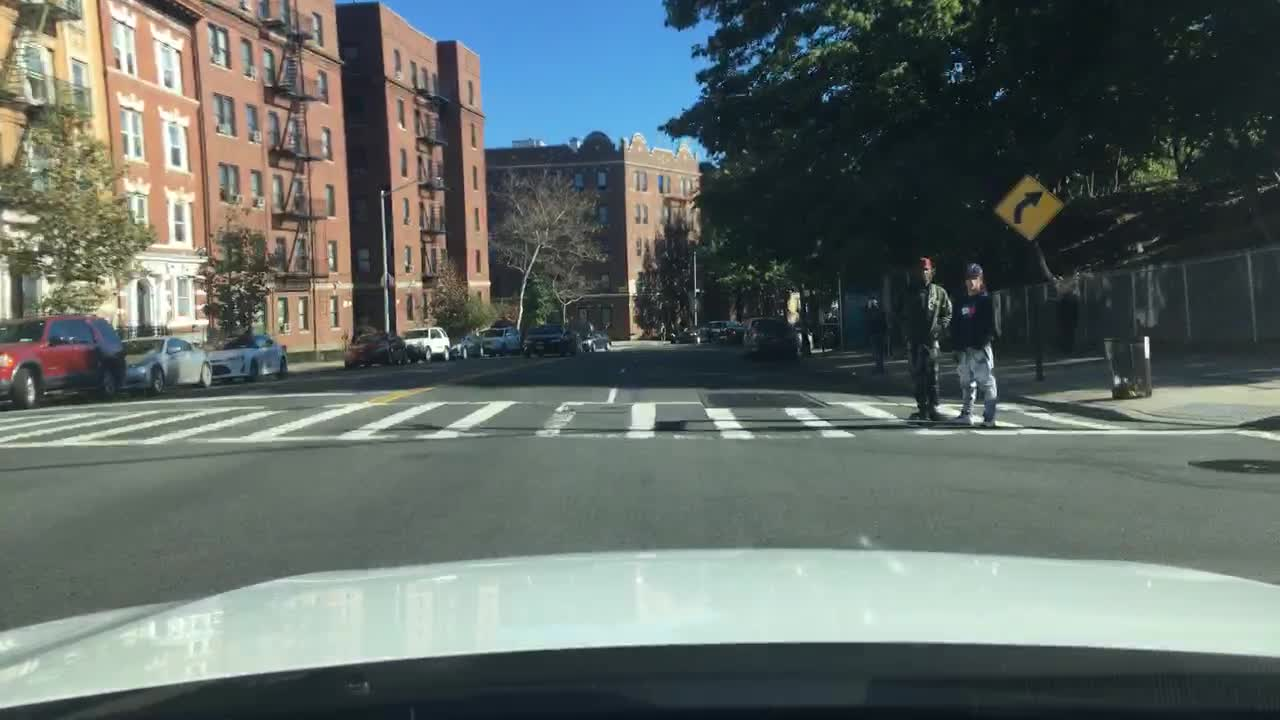car: (0, 311, 131, 409), (117, 336, 212, 394), (201, 335, 288, 378), (342, 329, 407, 370), (744, 316, 801, 358), (521, 323, 582, 357), (398, 326, 451, 364), (566, 323, 611, 351), (478, 325, 520, 355), (447, 333, 485, 359), (703, 318, 733, 343), (670, 325, 707, 343), (717, 322, 746, 344)
person: (949, 262, 1000, 430), (901, 255, 949, 424), (863, 296, 886, 374)
traffic sign: (992, 172, 1064, 240)
